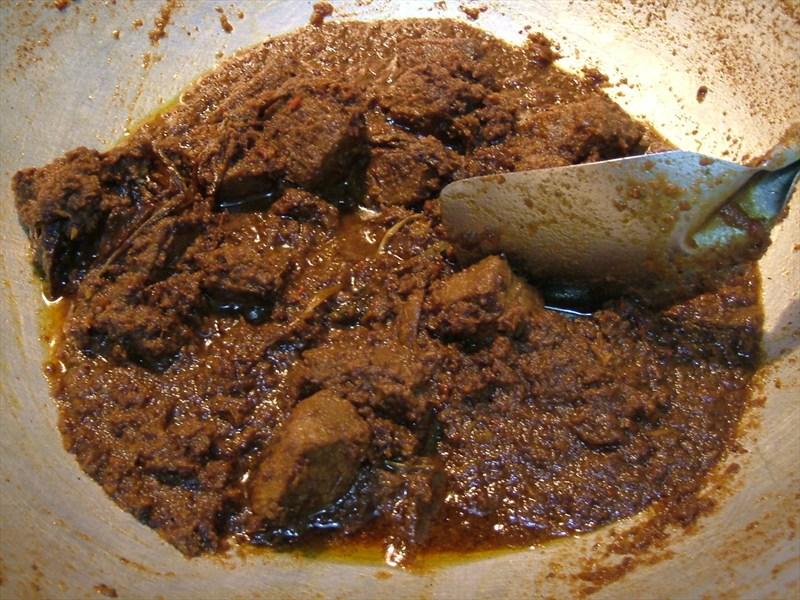Rendang: (82, 54, 653, 556)
